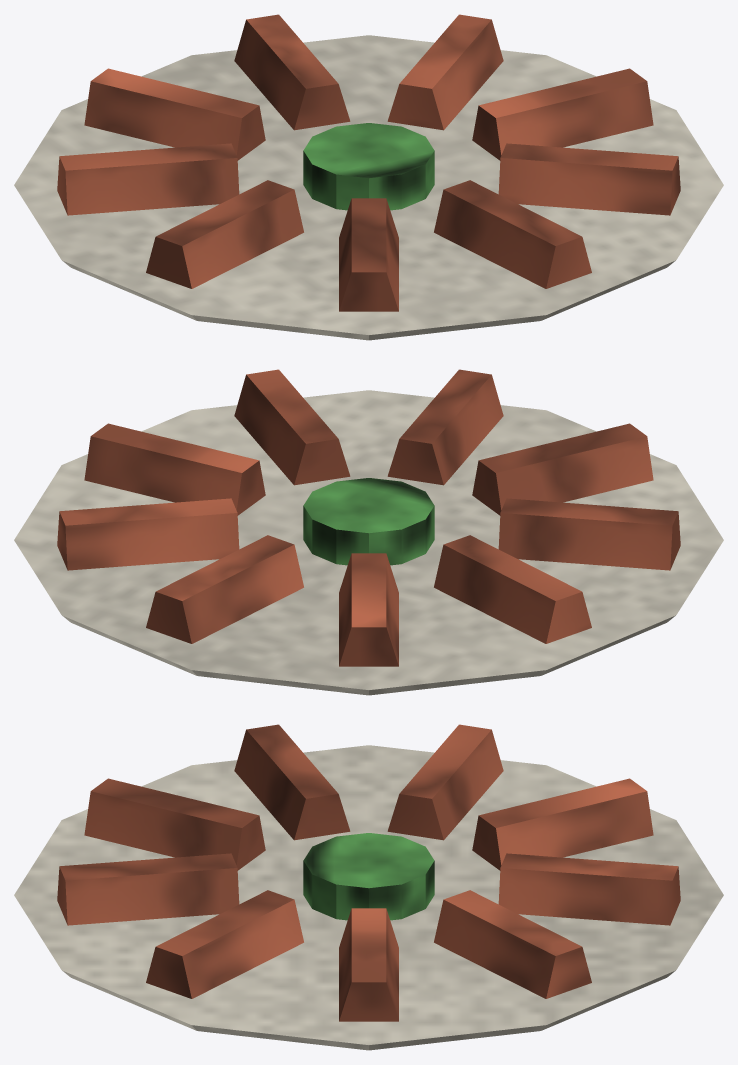
File: prawn_plate.fbx
The picture shows the model from 3 angles, top to bottom: view 1: azimuth 30°, elevation 25°; view 2: azimuth 150°, elevation 25°; view 3: azimuth 270°, elevation 25°; orthographic projection.
Visible parts, largest first — view 1: prawn_plate; view 2: prawn_plate; view 3: prawn_plate.
Boxes of the visible parts, x1=… form: prawn_plate: x1=14, y1=14, x2=723, y2=340; prawn_plate: x1=14, y1=369, x2=723, y2=695; prawn_plate: x1=14, y1=724, x2=723, y2=1050.
Bounding box in the file's own units: 26 × 4.8 × 26.
